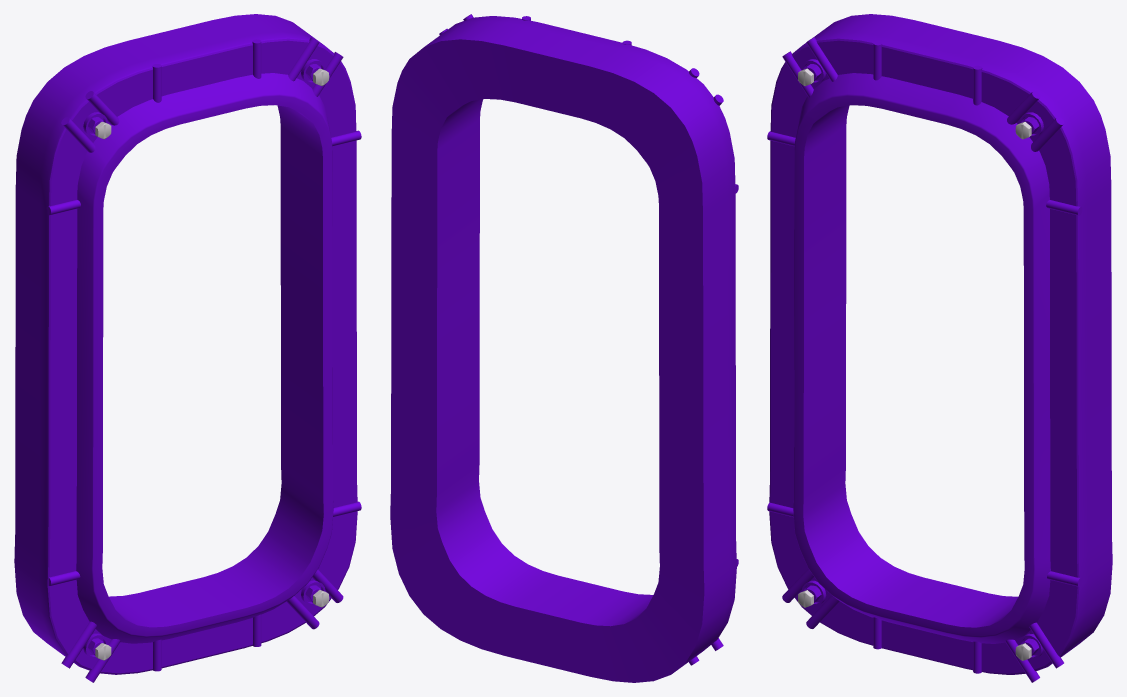
File: BulkheadDoorFrame.fbx
3 views of the same model, side by side, from view 1: azimuth 30°, elevation 25°; view 2: azimuth 150°, elevation 25°; view 3: azimuth 330°, elevation 25° (orthographic).
Parts seen in each view (by area): view 1: BulkHeadFrame; view 2: BulkHeadFrame; view 3: BulkHeadFrame.
Part boxes in pixels (x1,y1,x2,y2): BulkHeadFrame: (14,14,361,682); BulkHeadFrame: (390,14,738,682); BulkHeadFrame: (767,14,1112,682).
Bounding box in the file's own units: 117 × 218 × 28.53.
